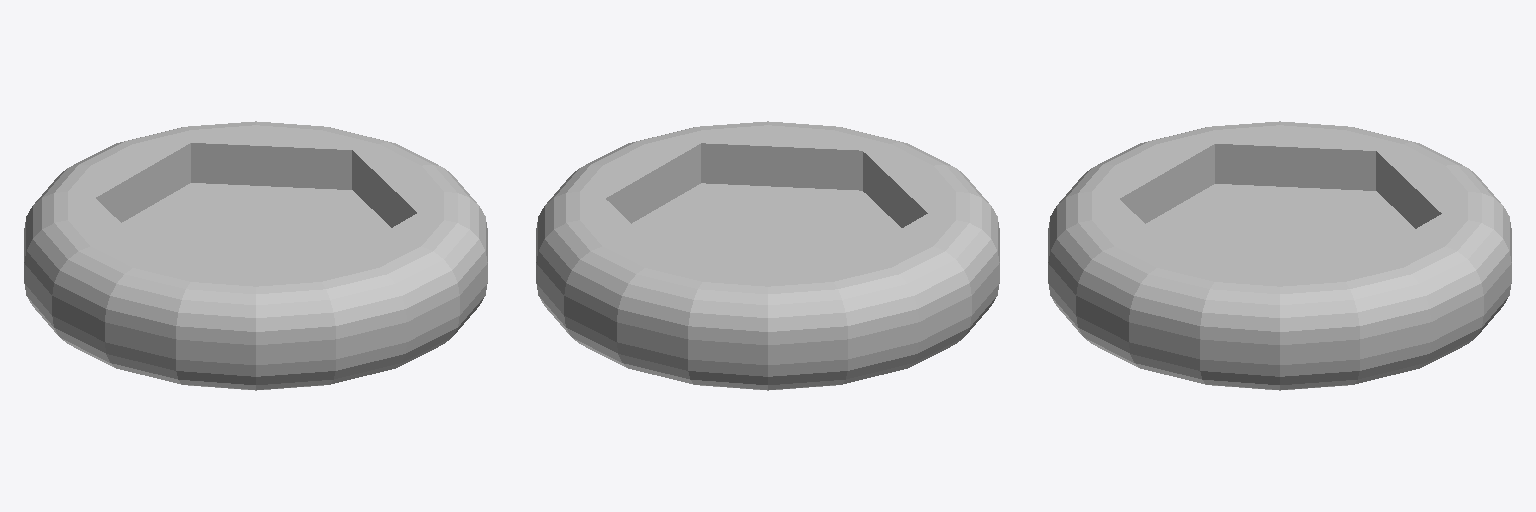
The model's file is roata.obj.
3 views of the same model, side by side, from view 1: azimuth 30°, elevation 25°; view 2: azimuth 150°, elevation 25°; view 3: azimuth 270°, elevation 25° (orthographic).
Parts seen in each view (by area): view 1: Body002; view 2: Body002; view 3: Body002.
Boxes of the visible parts, box(x1,y1,x2,y2) form: Body002: box(24, 121, 487, 390); Body002: box(536, 121, 999, 390); Body002: box(1048, 121, 1511, 390).
Bounding box in the file's own units: 21.31 × 5 × 20.99.